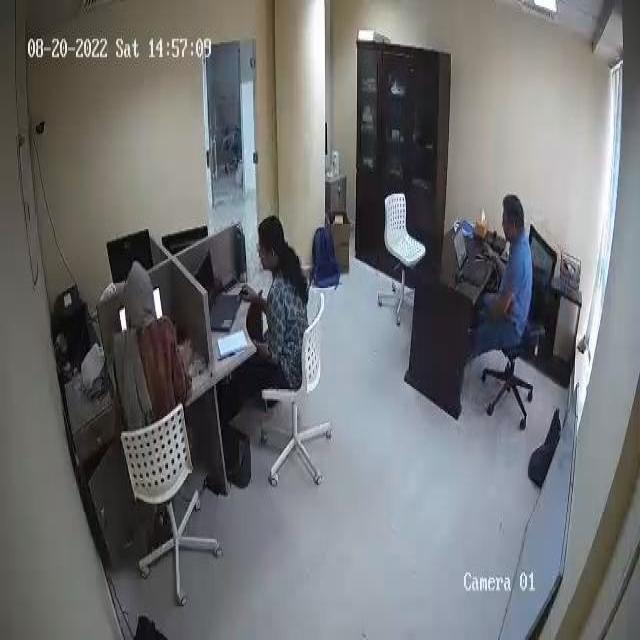bare_hand: (176, 323, 201, 374), (237, 269, 265, 312), (482, 236, 503, 268)
